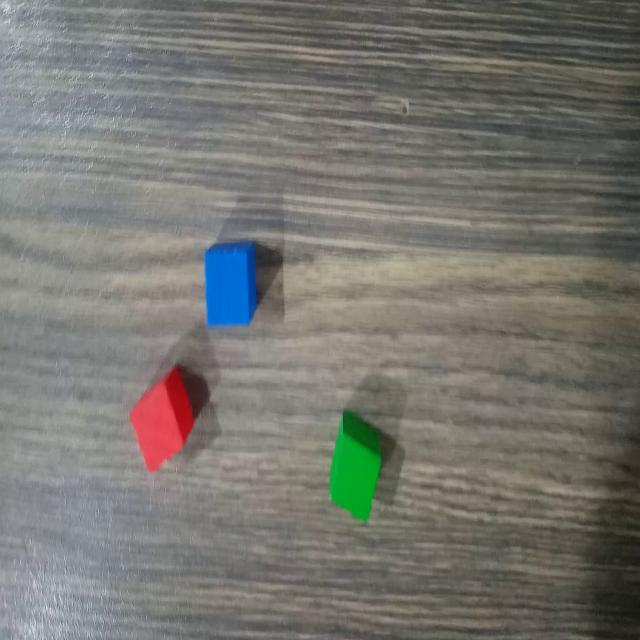cube: (127, 367, 198, 480), (326, 405, 384, 530), (201, 238, 258, 332)
